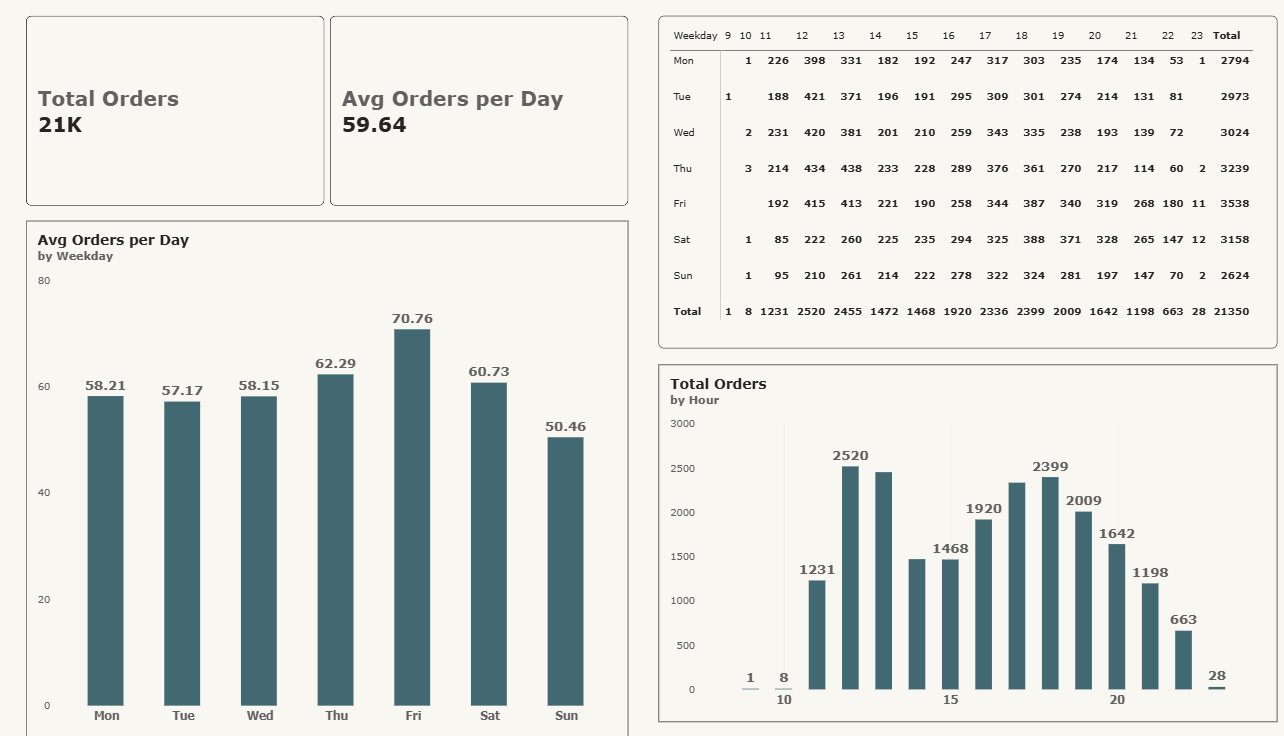

Layout of this report page (visuals, bound fields, positions):
{"tool":"powerbi","page":{"name":"Orders & Peak hours","canvas":[1920,1080],"ordinal":0},"visuals":[{"type":"cardVisual","fields":{"Data":["Measure.Total Orders","Measure.Avg Orders per Day"]},"box":[43.4,34.4,872.3,275.1],"z":0},{"type":"clusteredColumnChart","fields":{"Category":["orders.Hour"],"Y":["Measure.Total Orders"]},"box":[959.1,539.3,895.8,517.6],"z":1000},{"type":"clusteredColumnChart","fields":{"Category":["Calendar.Weekday"],"Y":["Measure.Avg Orders per Day"]},"box":[43.4,331.2,872.3,749.2],"z":2000},{"type":"pivotTable","fields":{"Columns":["orders.Hour"],"Rows":["Calendar.Weekday"],"Values":["Measure.Total Orders"]},"box":[959.1,34.4,895.8,481.4],"z":3000}]}

Visuals, with their boxes in screenshot pixels (x1, y1, x2, y2), scaled from the page's 1920x1080 canvas onto the 1284x736 screenshot:
cardVisual - Measure.Total Orders x Measure.Avg Orders per Day: {"left": 29, "top": 23, "right": 612, "bottom": 211}
clusteredColumnChart - orders.Hour x Measure.Total Orders: {"left": 641, "top": 368, "right": 1240, "bottom": 720}
clusteredColumnChart - Calendar.Weekday x Measure.Avg Orders per Day: {"left": 29, "top": 226, "right": 612, "bottom": 735}
pivotTable - orders.Hour x Calendar.Weekday: {"left": 641, "top": 23, "right": 1240, "bottom": 352}
